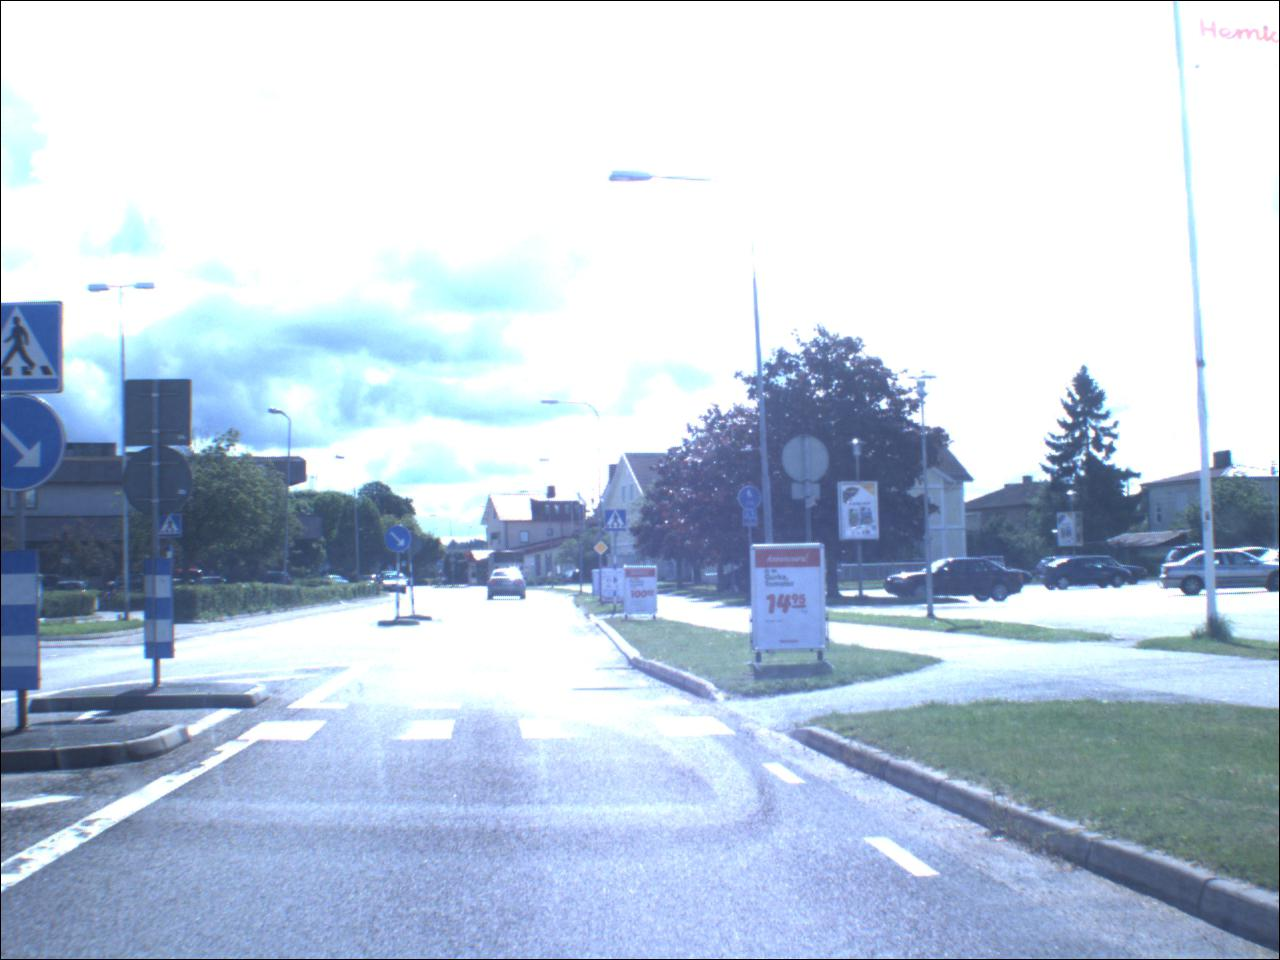PASS_RIGHT_SIDE: (4, 398, 68, 494), (387, 527, 414, 556)
PEDESTRIAN_CROSSING: (3, 305, 63, 395), (158, 516, 185, 541), (606, 511, 630, 534)
PRIORITY_ROAD: (596, 542, 612, 559)
